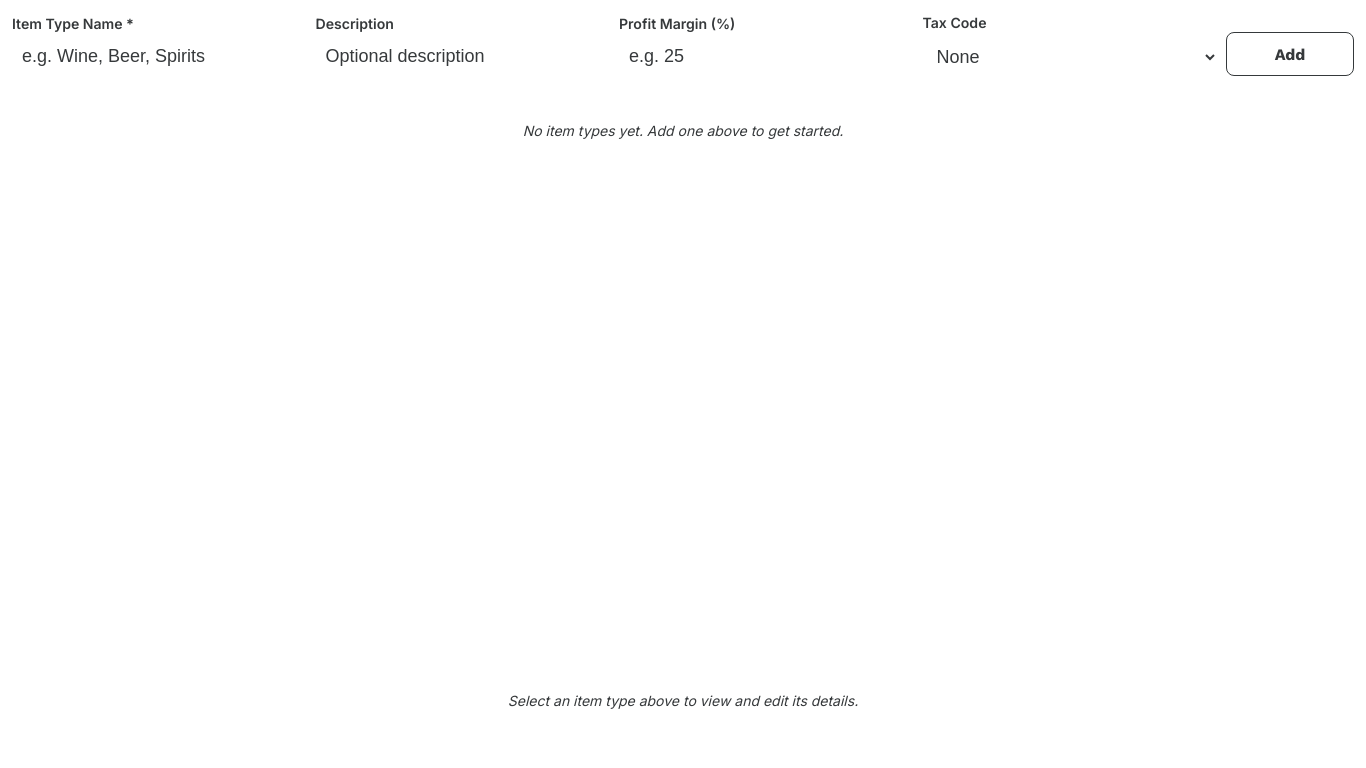
Test: ItemTypePanel › shows validation when creating with empty name
This screenshot has width=1366, height=768.
Expected: the field labelled "Item Type Name" is shown, left=12, top=38, right=308, bottom=75
Click the button "Add". click: (1290, 54)
box: left=1226, top=32, right=1354, bottom=76
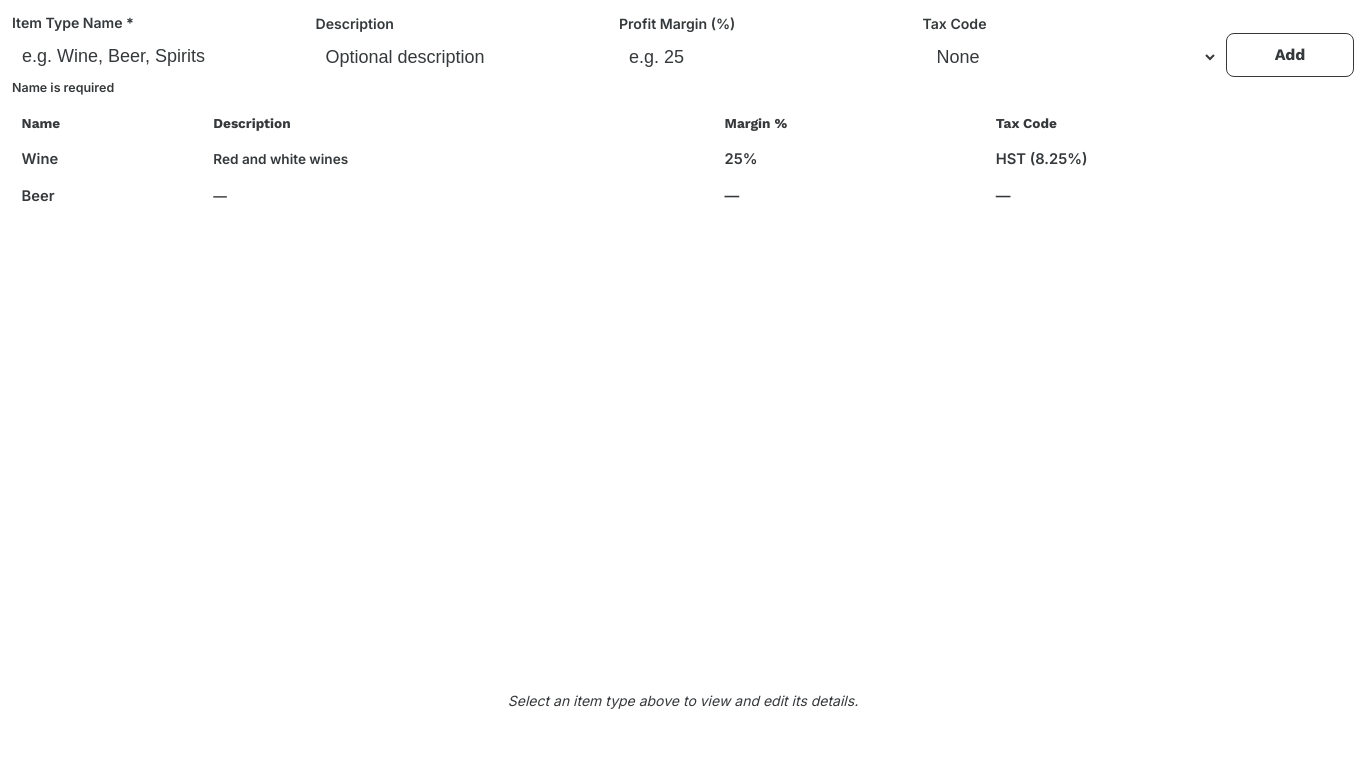
Expected: the text "Name is required" is shown, left=12, top=80, right=114, bottom=95
